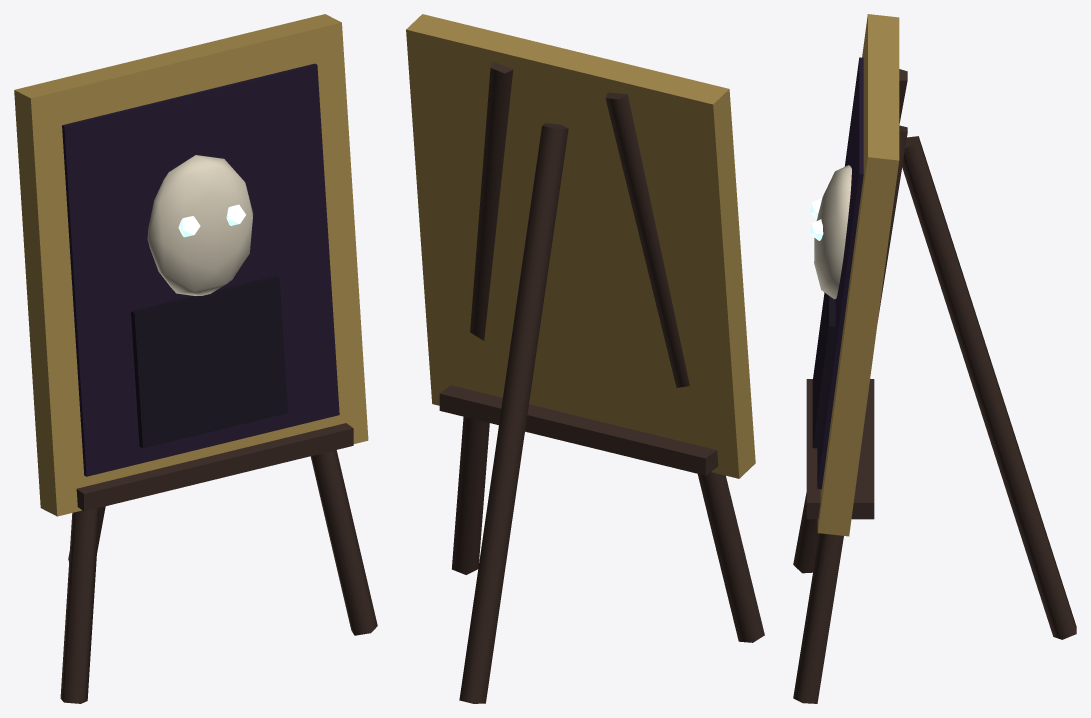
File: prop_portrait.glb
3 views of the same model, side by side, from view 1: azimuth 30°, elevation 25°; view 2: azimuth 150°, elevation 25°; view 3: azimuth 270°, elevation 25° (orthographic). The views are drawn at different scales.
Visible parts, largest first — view 1: prop_portrait; view 2: prop_portrait; view 3: prop_portrait.
Boxes of the visible parts, box(x1,y1,x2,y2) form: prop_portrait: box(14, 14, 377, 703); prop_portrait: box(406, 14, 764, 703); prop_portrait: box(793, 14, 1076, 703).
Size of the model in its own units: 1.51 by 2.69 by 1.26.
